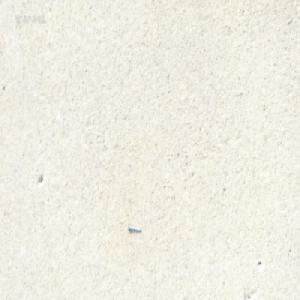Nail: (126, 223, 141, 232)
